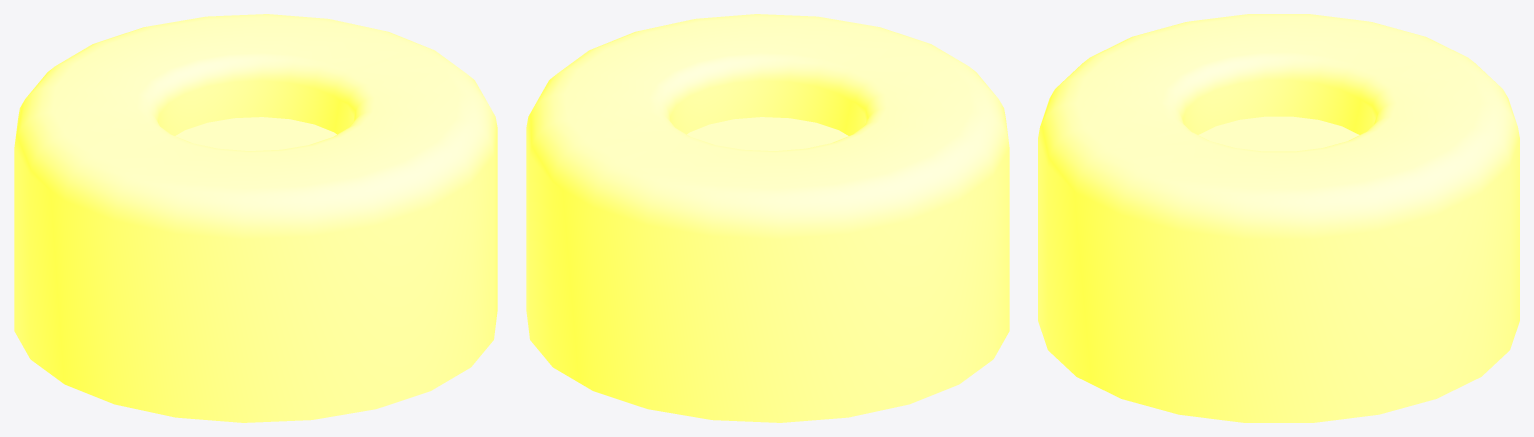
The model's file is Pin Specular.fbx.
3 renders of one model, left to right at view 1: azimuth 30°, elevation 25°; view 2: azimuth 150°, elevation 25°; view 3: azimuth 270°, elevation 25°, orthographic.
Parts seen in each view (by area): view 1: Pin_Specular; view 2: Pin_Specular; view 3: Pin_Specular.
Boxes of the visible parts, x1=… form: Pin_Specular: x1=14, y1=14, x2=497, y2=422; Pin_Specular: x1=526, y1=14, x2=1009, y2=422; Pin_Specular: x1=1038, y1=14, x2=1519, y2=422.
Bounding box in the file's own units: 50 × 25 × 50.
